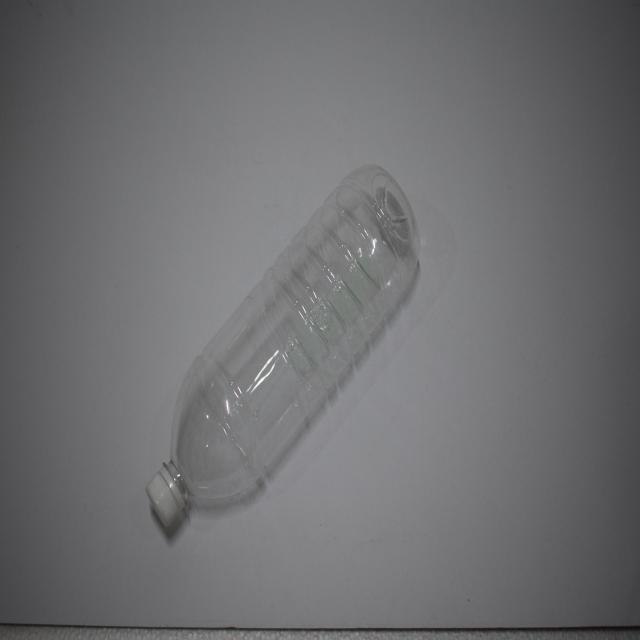bottle: (142, 148, 436, 561)
